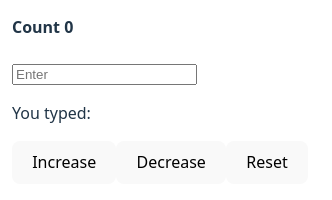
Test: Counter Component › Should display 1 when clicking the increment button 1
Click the button "Increase" at (64, 162), box 12,141 -> 116,184
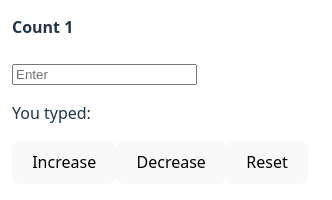
Result: the heading "Count 1" is shown at 12,16 -> 73,38
